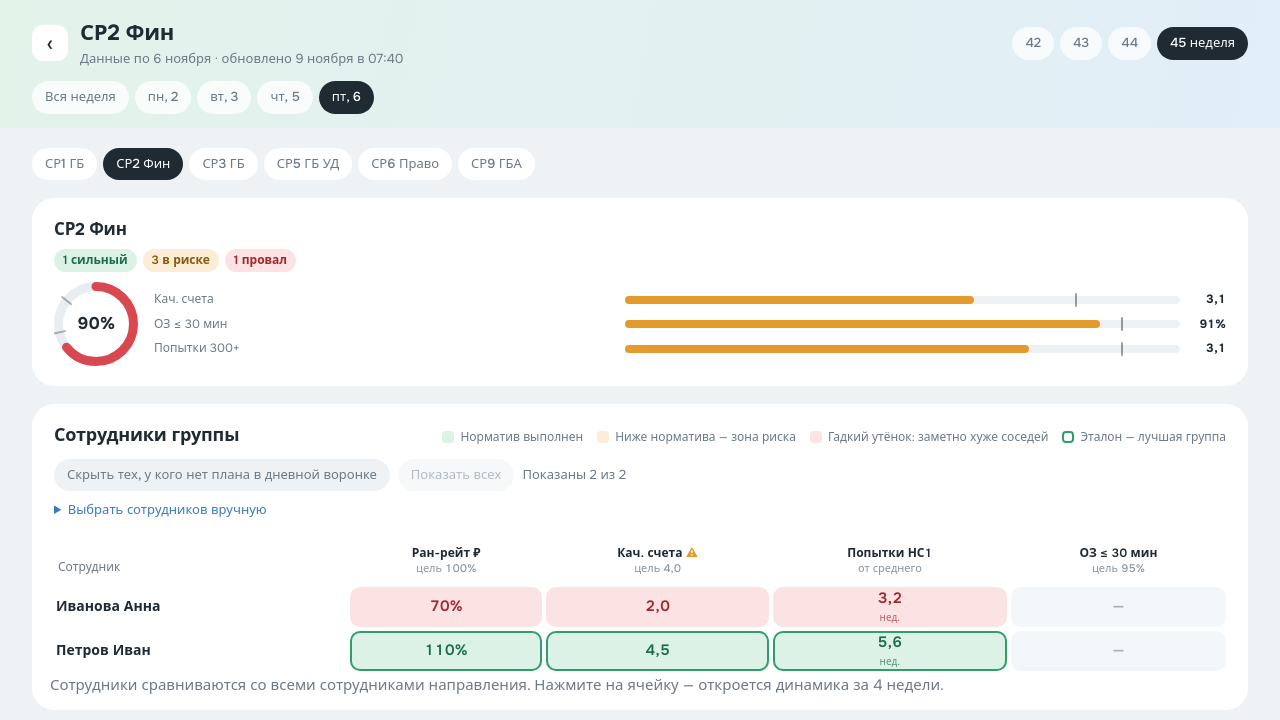
Test case: Group screen › opens the employee trend from a cell, with the 4 weeks on the axis
What coordinates should you click on to do the following:
click the button named "Иванова Анна, Качественные счета"
I would click on:
 (658, 607)
Its box is [546,587,769,627].
(page scrolled)
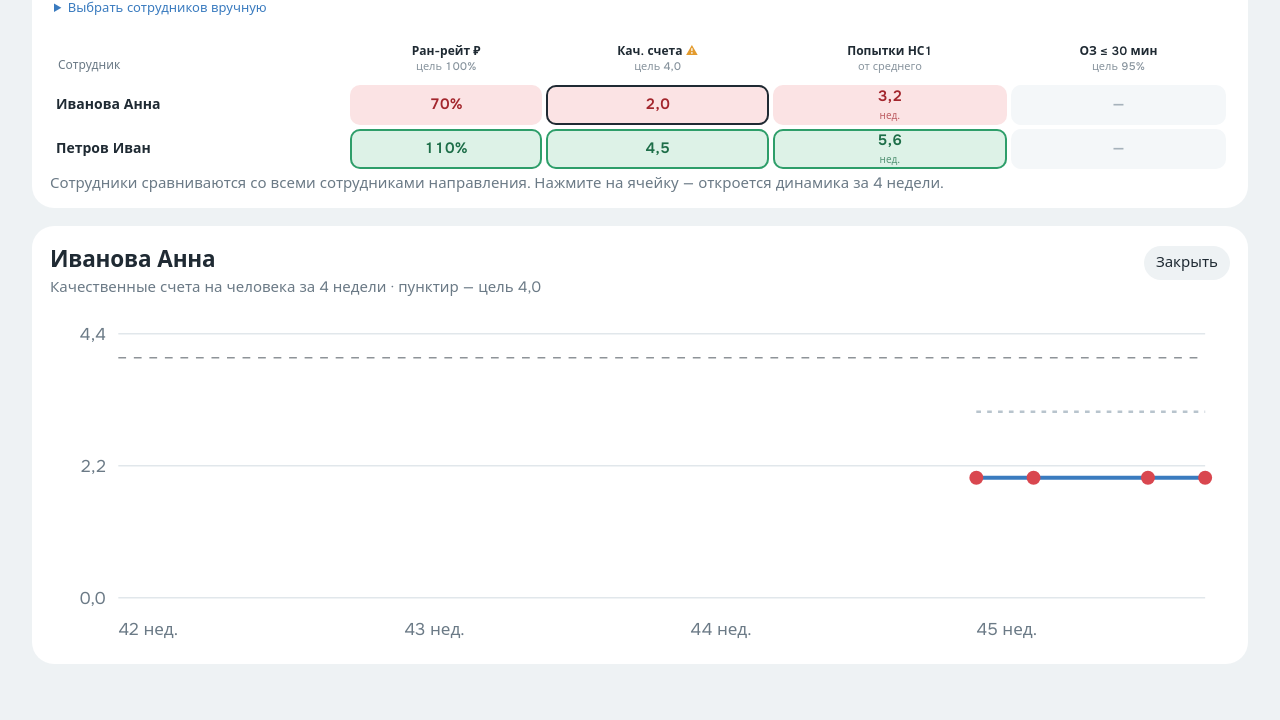
Result: the element named "Динамика" shows "Иванова Анна" at [50,245,215,274]
